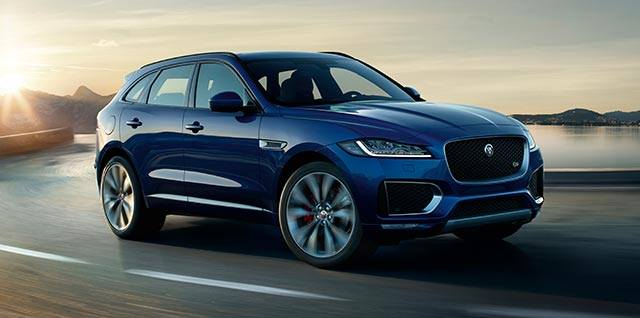araba: (95, 49, 543, 269)
